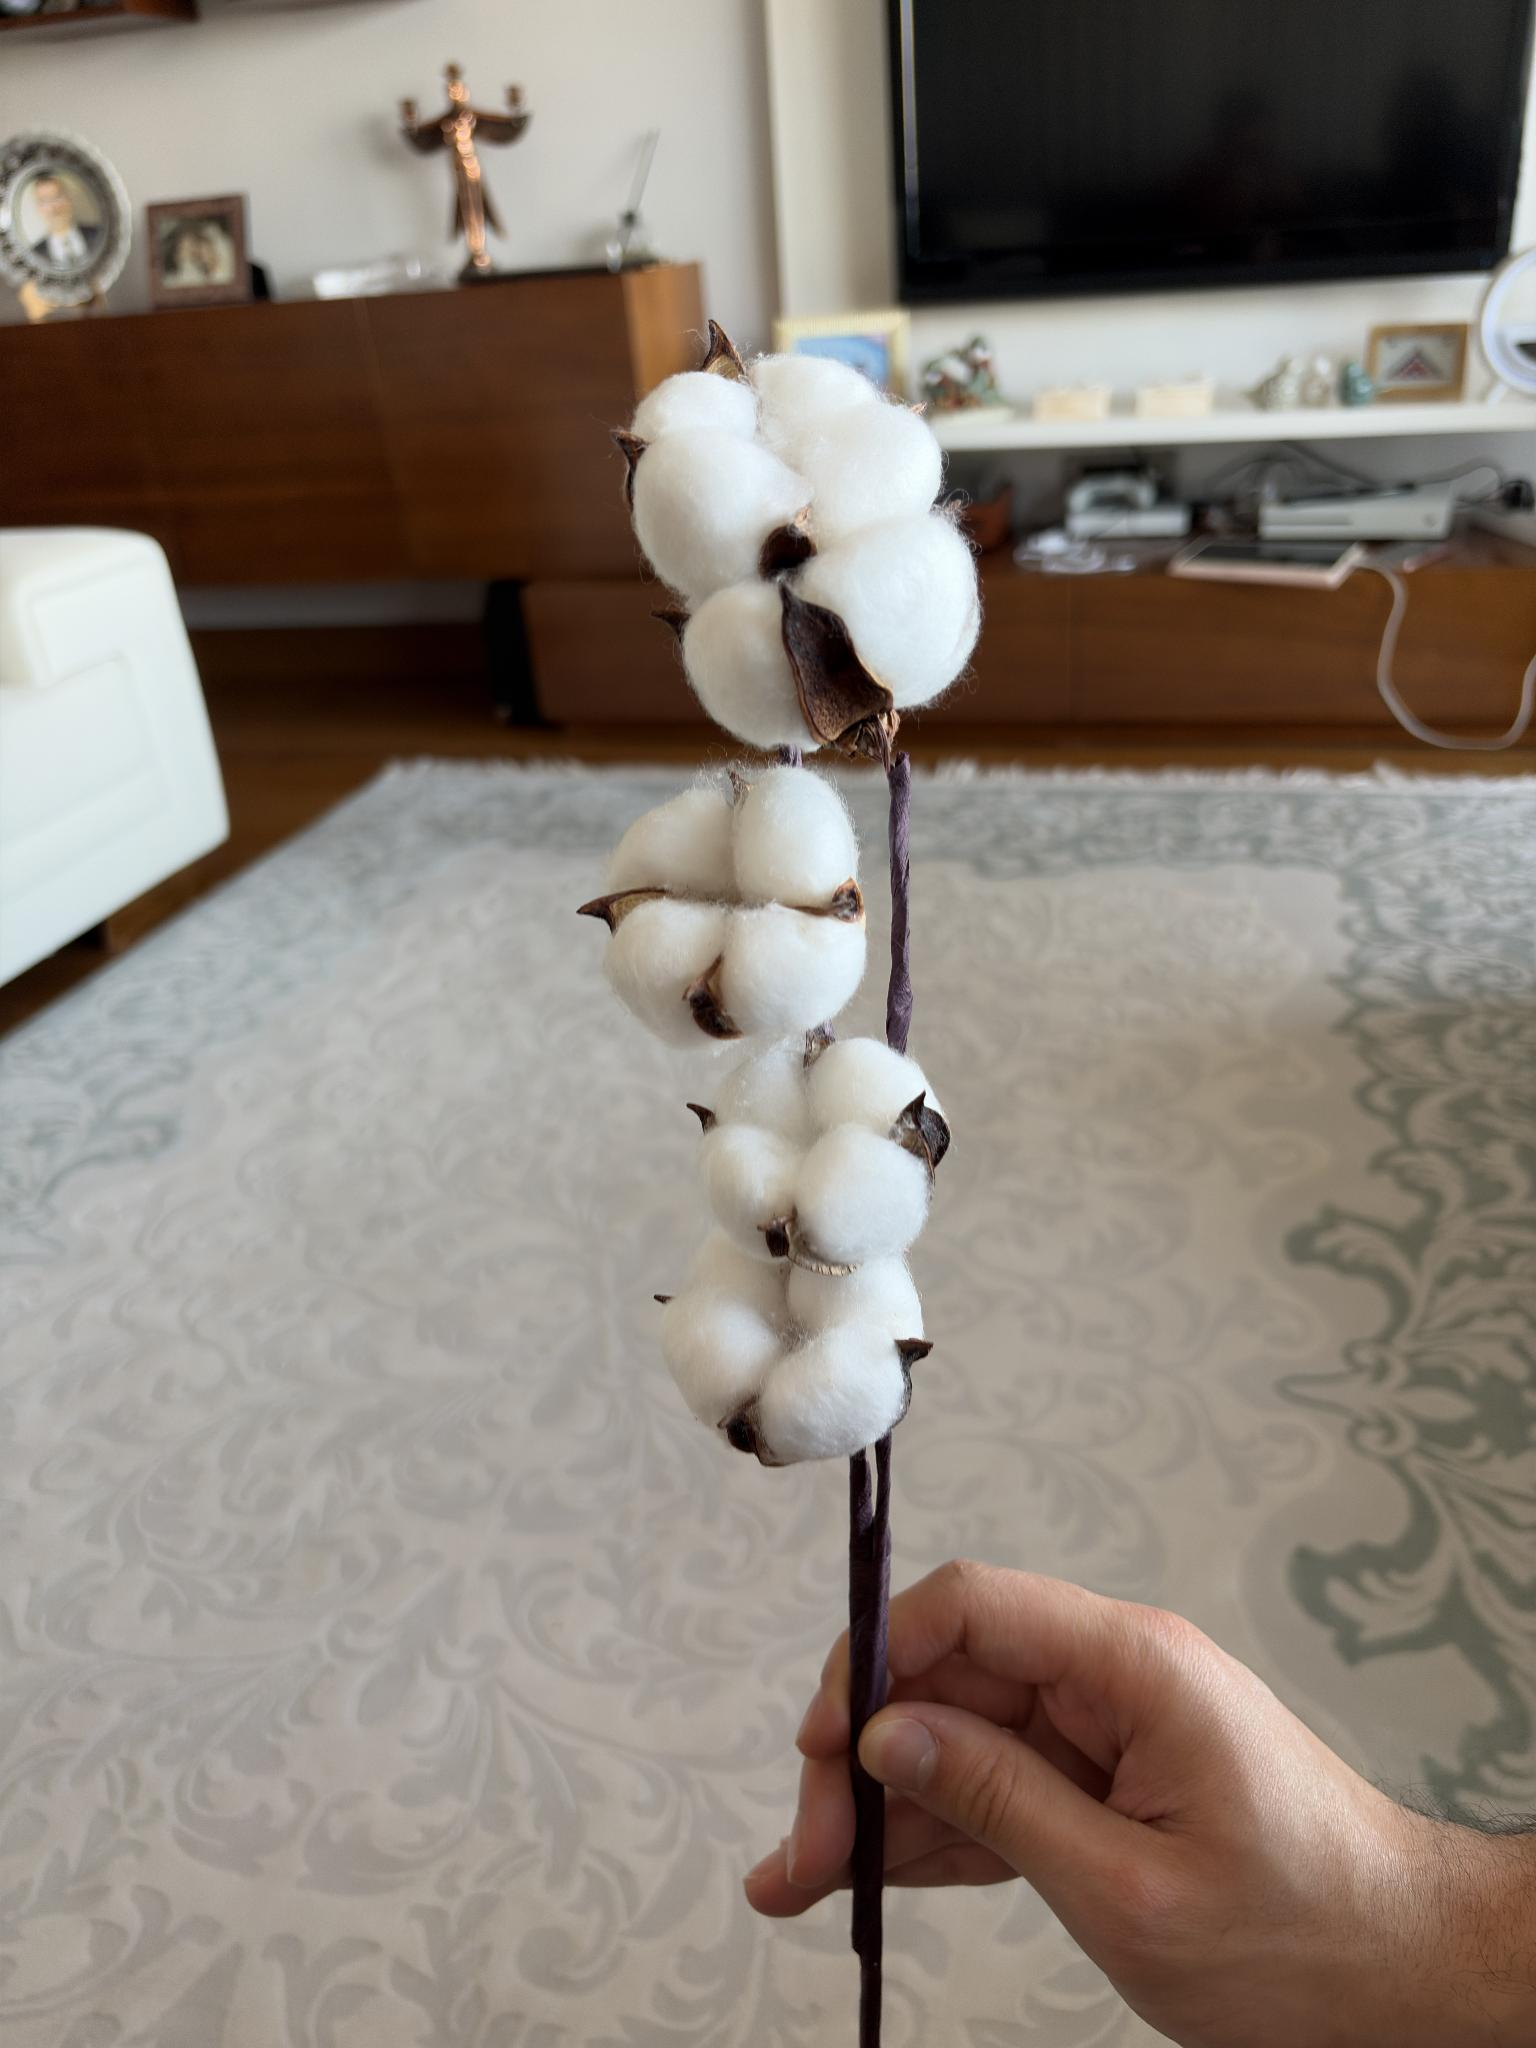cotton_boll: (797, 513, 979, 708), (632, 427, 810, 606), (749, 1321, 910, 1464), (681, 581, 808, 747), (800, 402, 942, 545), (792, 1122, 931, 1266), (716, 903, 865, 1037), (603, 897, 726, 1045), (733, 768, 857, 908), (662, 1287, 783, 1427), (749, 353, 884, 468), (607, 785, 737, 901), (700, 1119, 803, 1259), (807, 1039, 929, 1137), (787, 1256, 925, 1338), (715, 1039, 812, 1150), (684, 1226, 787, 1326), (632, 371, 755, 443)
cotton_boll-cluster: (626, 340, 992, 763), (594, 766, 873, 1058), (662, 1213, 933, 1477), (679, 1022, 955, 1276)
